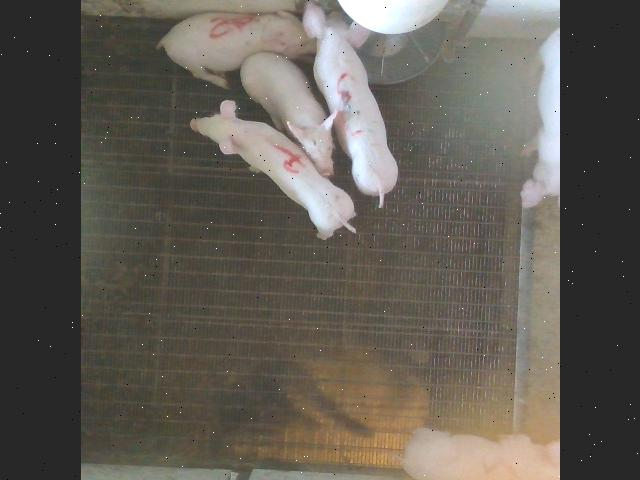pig-1: (520, 29, 560, 208)
pig-2: (401, 429, 559, 480)
pig-3: (302, 2, 396, 206)
pig-4: (190, 100, 354, 239)
pig-5: (156, 11, 315, 88)
